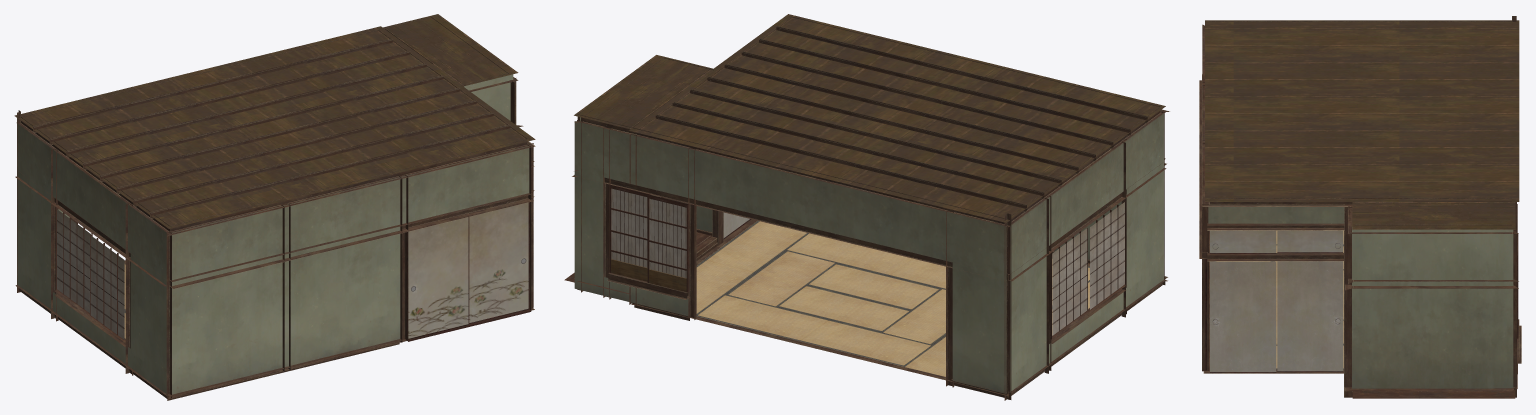
Rendered from hisanoie_room.fbx.
3 views of the same model, side by side, from view 1: azimuth 30°, elevation 25°; view 2: azimuth 150°, elevation 25°; view 3: azimuth 270°, elevation 25° (orthographic). The views are drawn at different scales.
Parts seen in each view (by area): view 1: SM_020_Room_01a; view 2: SM_020_Room_01a; view 3: SM_020_Room_01a.
Boxes of the visible parts, bbox=[...] form: SM_020_Room_01a: bbox=[14, 14, 535, 400]; SM_020_Room_01a: bbox=[564, 14, 1169, 400]; SM_020_Room_01a: bbox=[1199, 16, 1521, 398].
Bounding box in the file's own units: 912 × 362 × 577.
